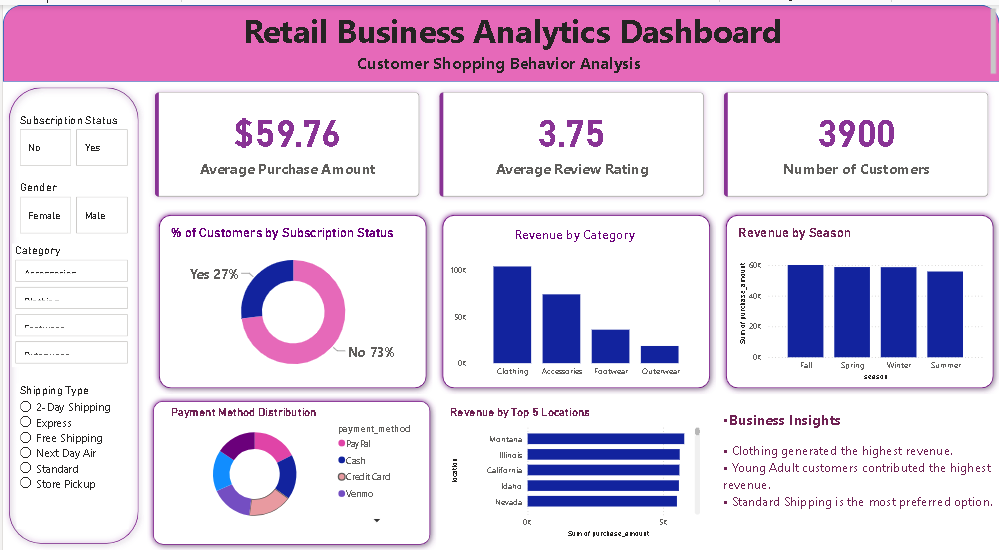

What the dashboard file says about the page in this screenshot:
{"tool":"powerbi","page":{"name":"Executive Page","canvas":[1500,820],"ordinal":0},"visuals":[{"type":"cardVisual","fields":{"Data":["public customer.Average Purchase Amount","public customer.Average Review Rating","public customer.Number of Customers"]},"box":[212.1,116.2,1287.2,189.9],"z":0},{"type":"shape","box":[0,0,1499.4,115.3],"z":1000},{"type":"textbox","box":[0,0,1499.3,116.2],"z":2000},{"type":"shape","box":[217.6,586.4,435.2,234.2],"z":2500,"group":"g1"},{"type":"shape","box":[225.4,307,420.5,278.6],"z":3000},{"type":"donutChart","title":"% of Customers by Subscription Status","fields":{"Category":["public customer.subscription_status"],"Y":["CountNonNull(public customer.customer_id)"]},"box":[248.4,331.8,376.2,237.8],"z":4000},{"type":"shape","box":[1078.9,307,420.5,278.6],"z":5000},{"type":"shape","box":[652.1,307,420.5,278.6],"z":6000},{"type":"clusteredColumnChart","title":"Revenue by Category","fields":{"Y":["Sum(public customer.purchase_amount)"],"Category":["public customer.category"]},"box":[667.2,331.8,385.1,237.8],"z":7000},{"type":"shape","box":[0,115.3,212.9,704.5],"z":8000},{"type":"advancedSlicerVisual","fields":{"Values":["public customer.subscription_status"]},"box":[19.5,161.5,173.9,85.2],"z":9000},{"type":"advancedSlicerVisual","fields":{"Values":["public customer.gender"]},"box":[19.5,264.4,173.9,85.2],"z":10000},{"type":"advancedSlicerVisual","fields":{"Values":["public customer.category"]},"box":[14.2,358.4,179.2,186.3],"z":11000},{"type":"listSlicer","fields":{"Values":["public customer.shipping_type"]},"box":[19.5,569.6,168.6,220],"z":12000},{"type":"group","id":"g1","title":"Group 1","box":[217.6,586.4,435.2,234.2],"z":13000},{"type":"clusteredColumnChart","title":"Revenue by Season","fields":{"Category":["public customer.season"],"Y":["Sum(public customer.purchase_amount)"]},"box":[1100.9,331.9,378,237.9],"z":14000},{"type":"donutChart","title":"Payment Method Distribution","fields":{"Category":["public customer.payment_method"],"Y":["Sum(public customer.customer_id)"]},"box":[249,603,376.2,186.3],"z":15000},{"type":"clusteredBarChart","title":"Revenue by Top 5 Locations","fields":{"Category":["public customer.location"],"Y":["Sum(public customer.purchase_amount)"]},"box":[667.6,603,385.4,202.9],"z":16000},{"type":"textbox","box":[1079,603,421,203],"z":17000}]}

Visuals, with their boxes in screenshot pixels (x1, y1, x2, y2), scaled from the page's 1500x820 canvas onto the 999x550 screenshot:
cardVisual - public customer.Average Purchase Amount x public customer.Average Review Rating: [left=141, top=78, right=998, bottom=205]
shape: [left=0, top=0, right=998, bottom=77]
textbox: [left=0, top=0, right=998, bottom=78]
shape: [left=145, top=393, right=435, bottom=549]
shape: [left=150, top=206, right=430, bottom=393]
"% of Customers by Subscription Status" donutChart: [left=165, top=223, right=416, bottom=382]
shape: [left=719, top=206, right=998, bottom=393]
shape: [left=434, top=206, right=714, bottom=393]
"Revenue by Category" clusteredColumnChart: [left=444, top=223, right=701, bottom=382]
shape: [left=0, top=77, right=142, bottom=549]
advancedSlicerVisual - public customer.subscription_status: [left=13, top=108, right=129, bottom=165]
advancedSlicerVisual - public customer.gender: [left=13, top=177, right=129, bottom=234]
advancedSlicerVisual - public customer.category: [left=9, top=240, right=129, bottom=365]
listSlicer - public customer.shipping_type: [left=13, top=382, right=125, bottom=530]
"Group 1" group: [left=145, top=393, right=435, bottom=549]
"Revenue by Season" clusteredColumnChart: [left=733, top=223, right=985, bottom=382]
"Payment Method Distribution" donutChart: [left=166, top=404, right=416, bottom=529]
"Revenue by Top 5 Locations" clusteredBarChart: [left=445, top=404, right=701, bottom=541]
textbox: [left=719, top=404, right=998, bottom=541]
